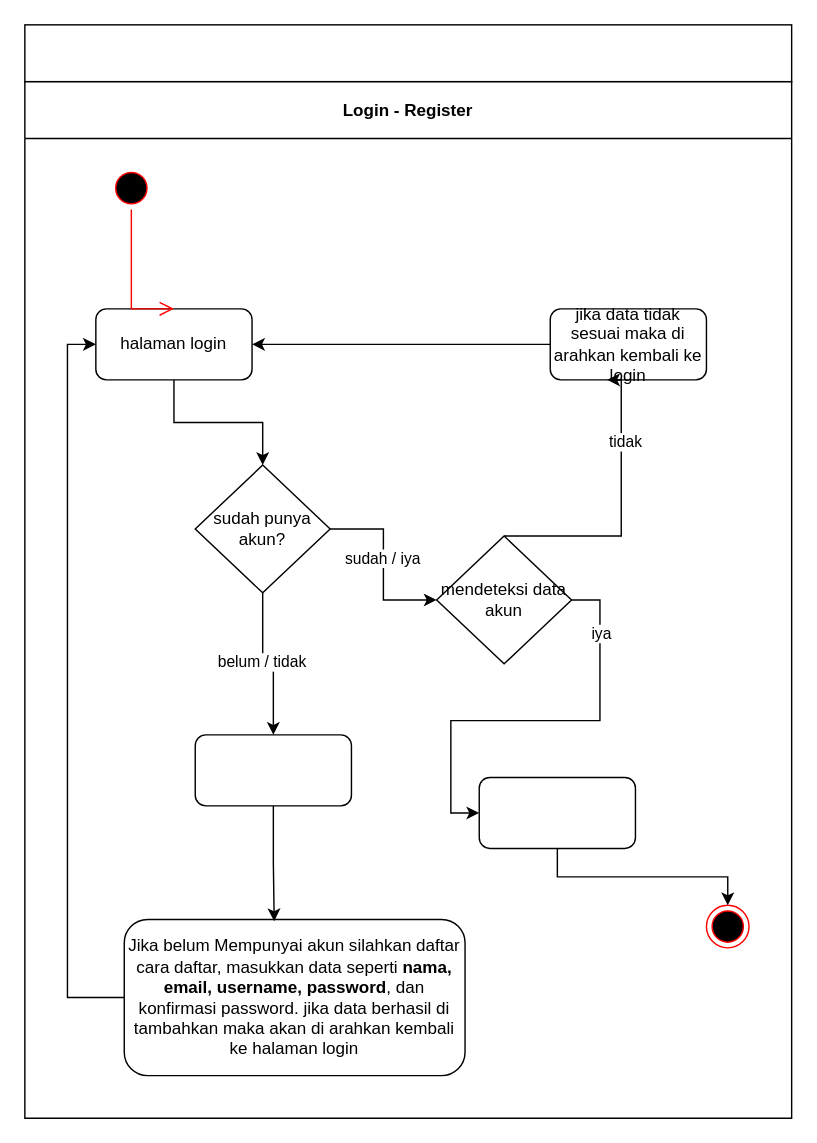
The diagram is 817 pixels wide and 1143 high, and some of its shapes have lost their labels. Each missing label, with the centre of its shape:
Activity Diagram Login: point (407, 52)
halaman utama: point (556, 812)
Register: point (272, 769)
